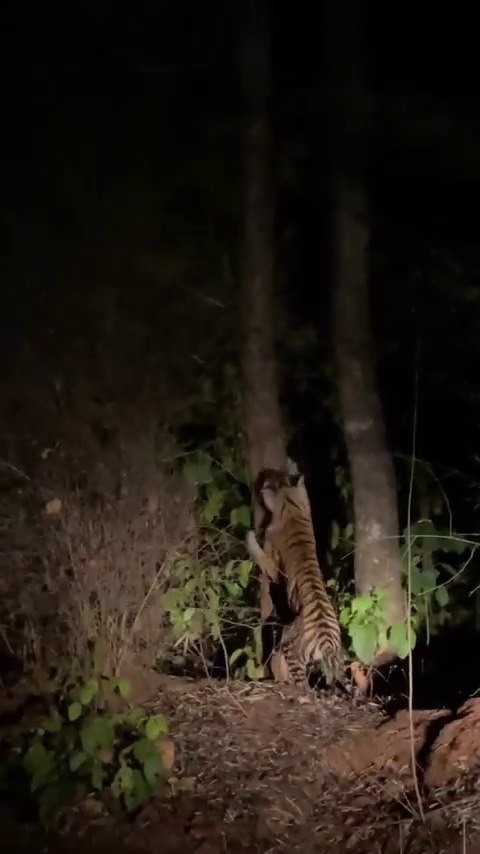Tiger: (242, 462, 379, 696)
